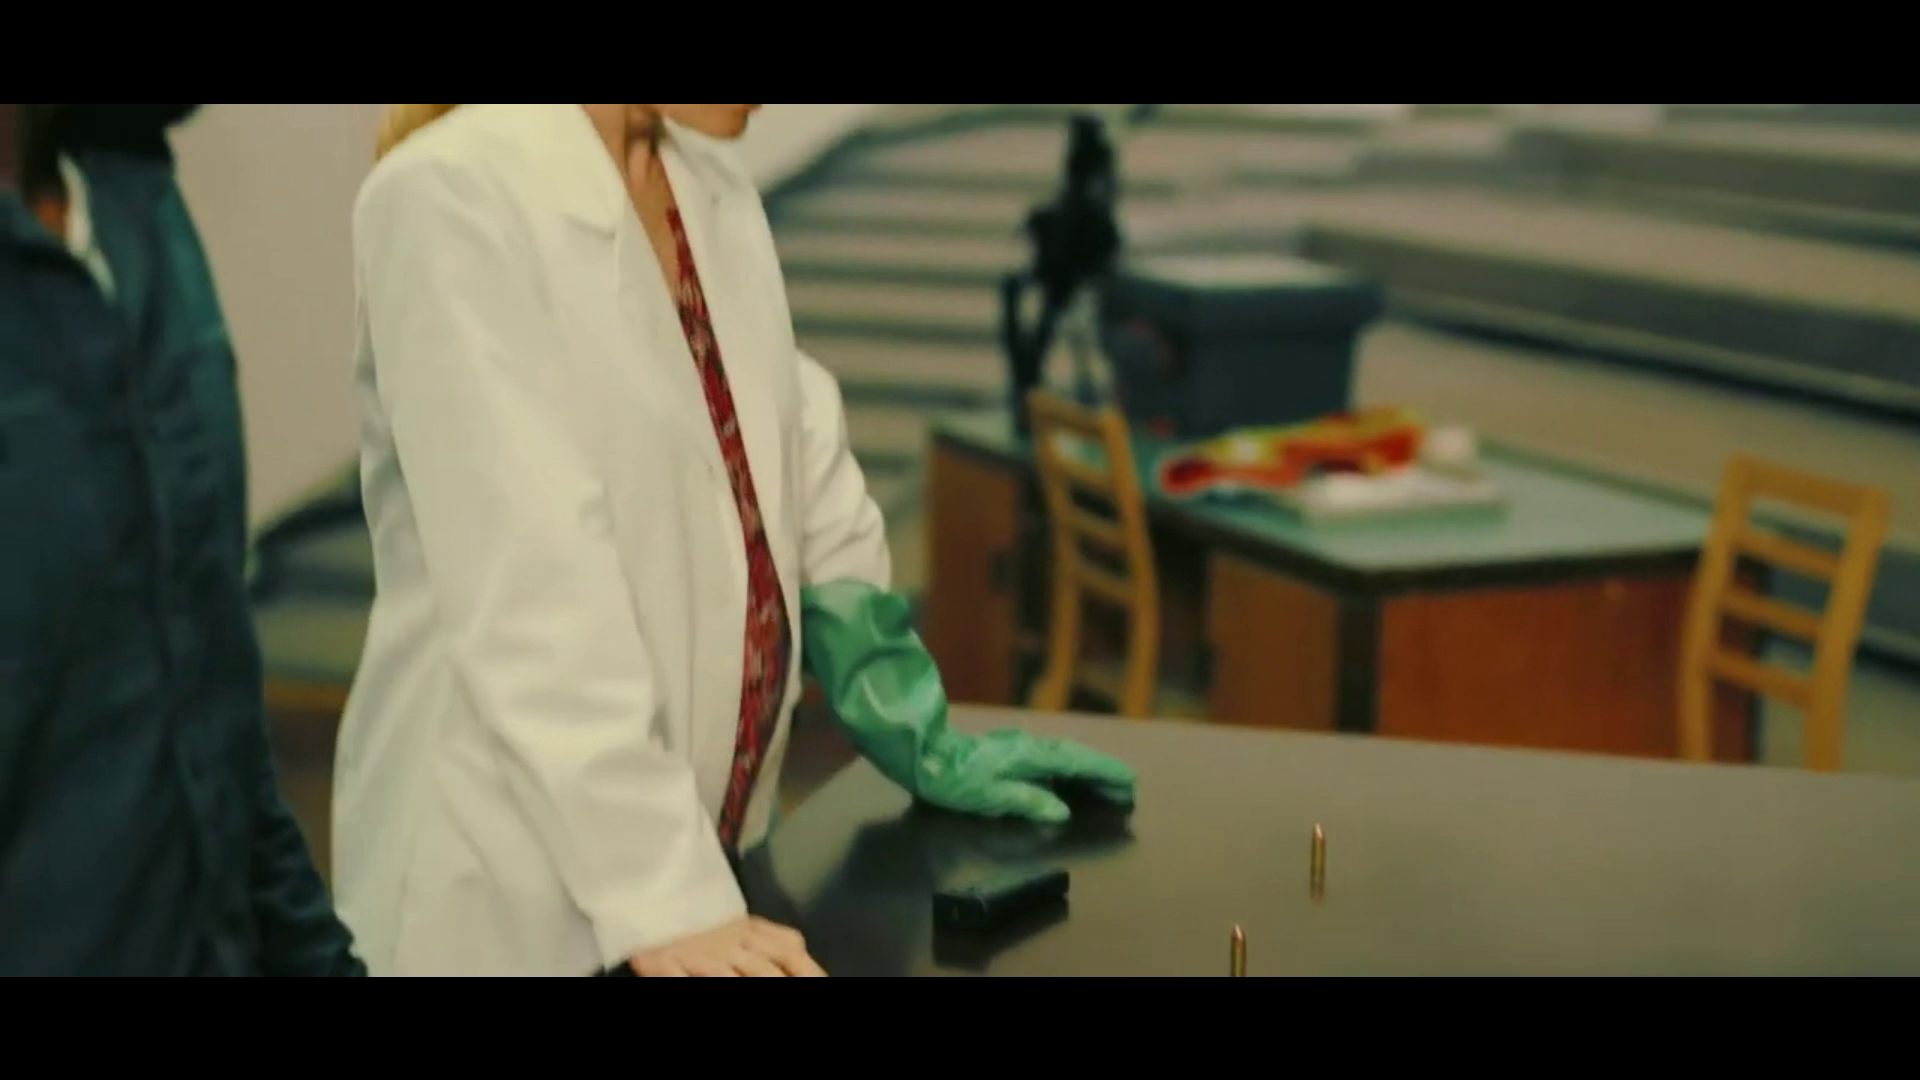Bullet: (1226, 922, 1249, 978), (1309, 819, 1328, 887)
